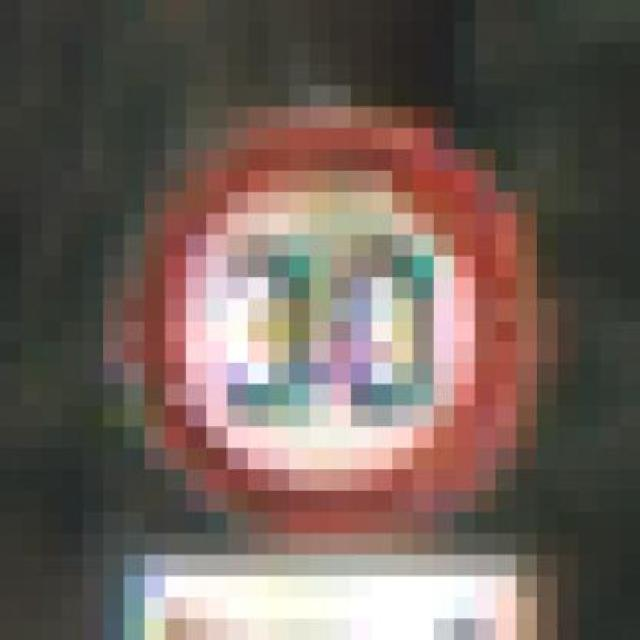Speed Limit 30 KMPh: (62, 86, 620, 554)
